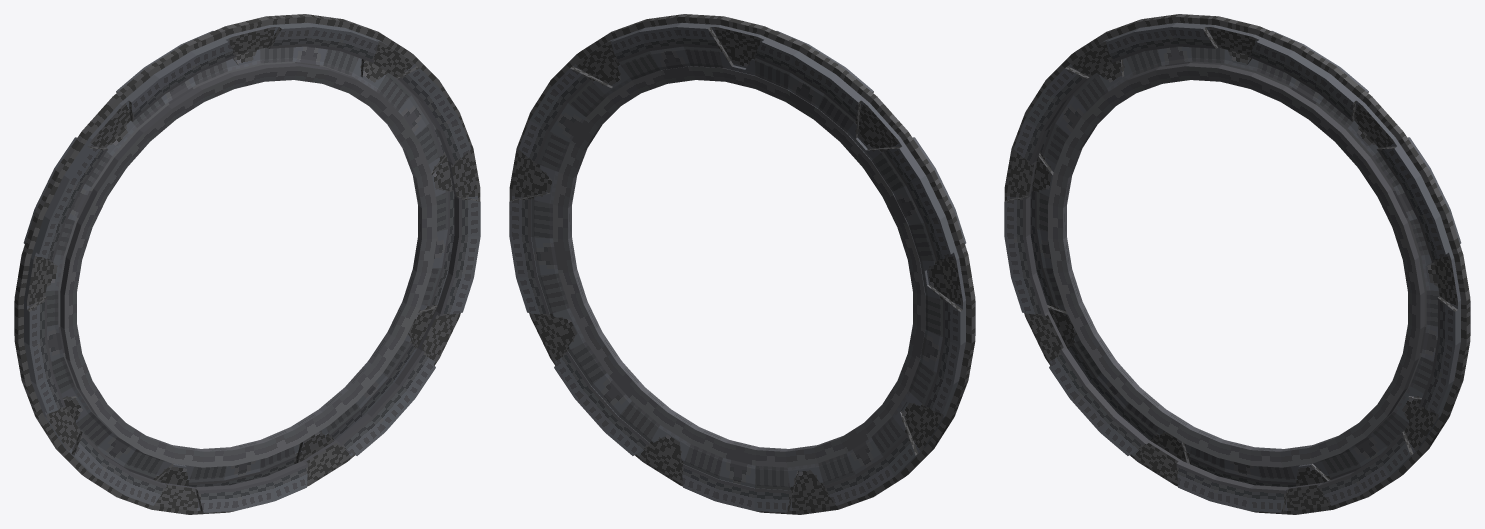
Rendered from MilkywayRing.obj.
The picture shows the model from 3 angles, left to right: view 1: azimuth 30°, elevation 25°; view 2: azimuth 150°, elevation 25°; view 3: azimuth 330°, elevation 25°; orthographic projection.
Visible parts, largest first — view 1: RingMinecraft; view 2: RingMinecraft; view 3: RingMinecraft.
Boxes of the visible parts, x1,y1,x2,y2 form: RingMinecraft: (14, 14, 480, 514); RingMinecraft: (509, 14, 975, 514); RingMinecraft: (1004, 14, 1470, 514).
Size of the model in its own units: 6.87 by 6.87 by 0.4.
Materials: 1 (1 with a texture image).
